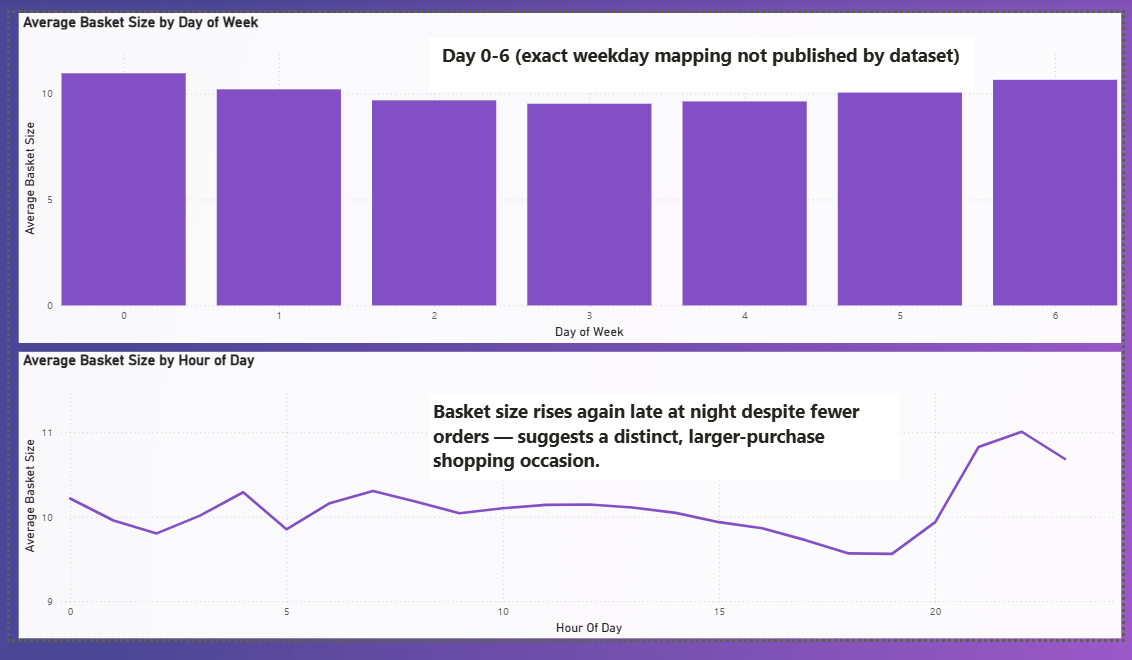

Layout of this report page (visuals, bound fields, positions):
{"tool":"powerbi","page":{"name":"Q2- Basket Size by Time","canvas":[1280,720],"ordinal":2},"visuals":[{"type":"clusteredColumnChart","title":"Average Basket Size by Day of Week","fields":{"Y":["Avg(q2_basket_time.avg_basket_size)"],"Category":["q2_basket_time.order_dow"]},"box":[10,0,1269.3,379.6],"z":0},{"type":"textbox","box":[482,28.1,626.6,62.3],"z":1000},{"type":"lineChart","title":"Average Basket Size by Hour of Day","fields":{"Y":["Avg(q2_basket_time.avg_basket_size)"],"Category":["q2_basket_time.order_hour_of_day"]},"box":[10,390,1269,330],"z":2000},{"type":"textbox","box":[482,437.8,542.3,100.4],"z":3000}]}

Visuals, with their boxes on the page's 1280x720 design canvas (x1, y1, x2, y2). These are canvas units, not pixel positions in the 1132x660 screenshot, which may show the page scaled, cropped or inside an application window:
"Average Basket Size by Day of Week" clusteredColumnChart: pyautogui.locateOnScreen(10, 0, 1279, 380)
textbox: pyautogui.locateOnScreen(482, 28, 1109, 90)
"Average Basket Size by Hour of Day" lineChart: pyautogui.locateOnScreen(10, 390, 1279, 720)
textbox: pyautogui.locateOnScreen(482, 438, 1024, 538)
